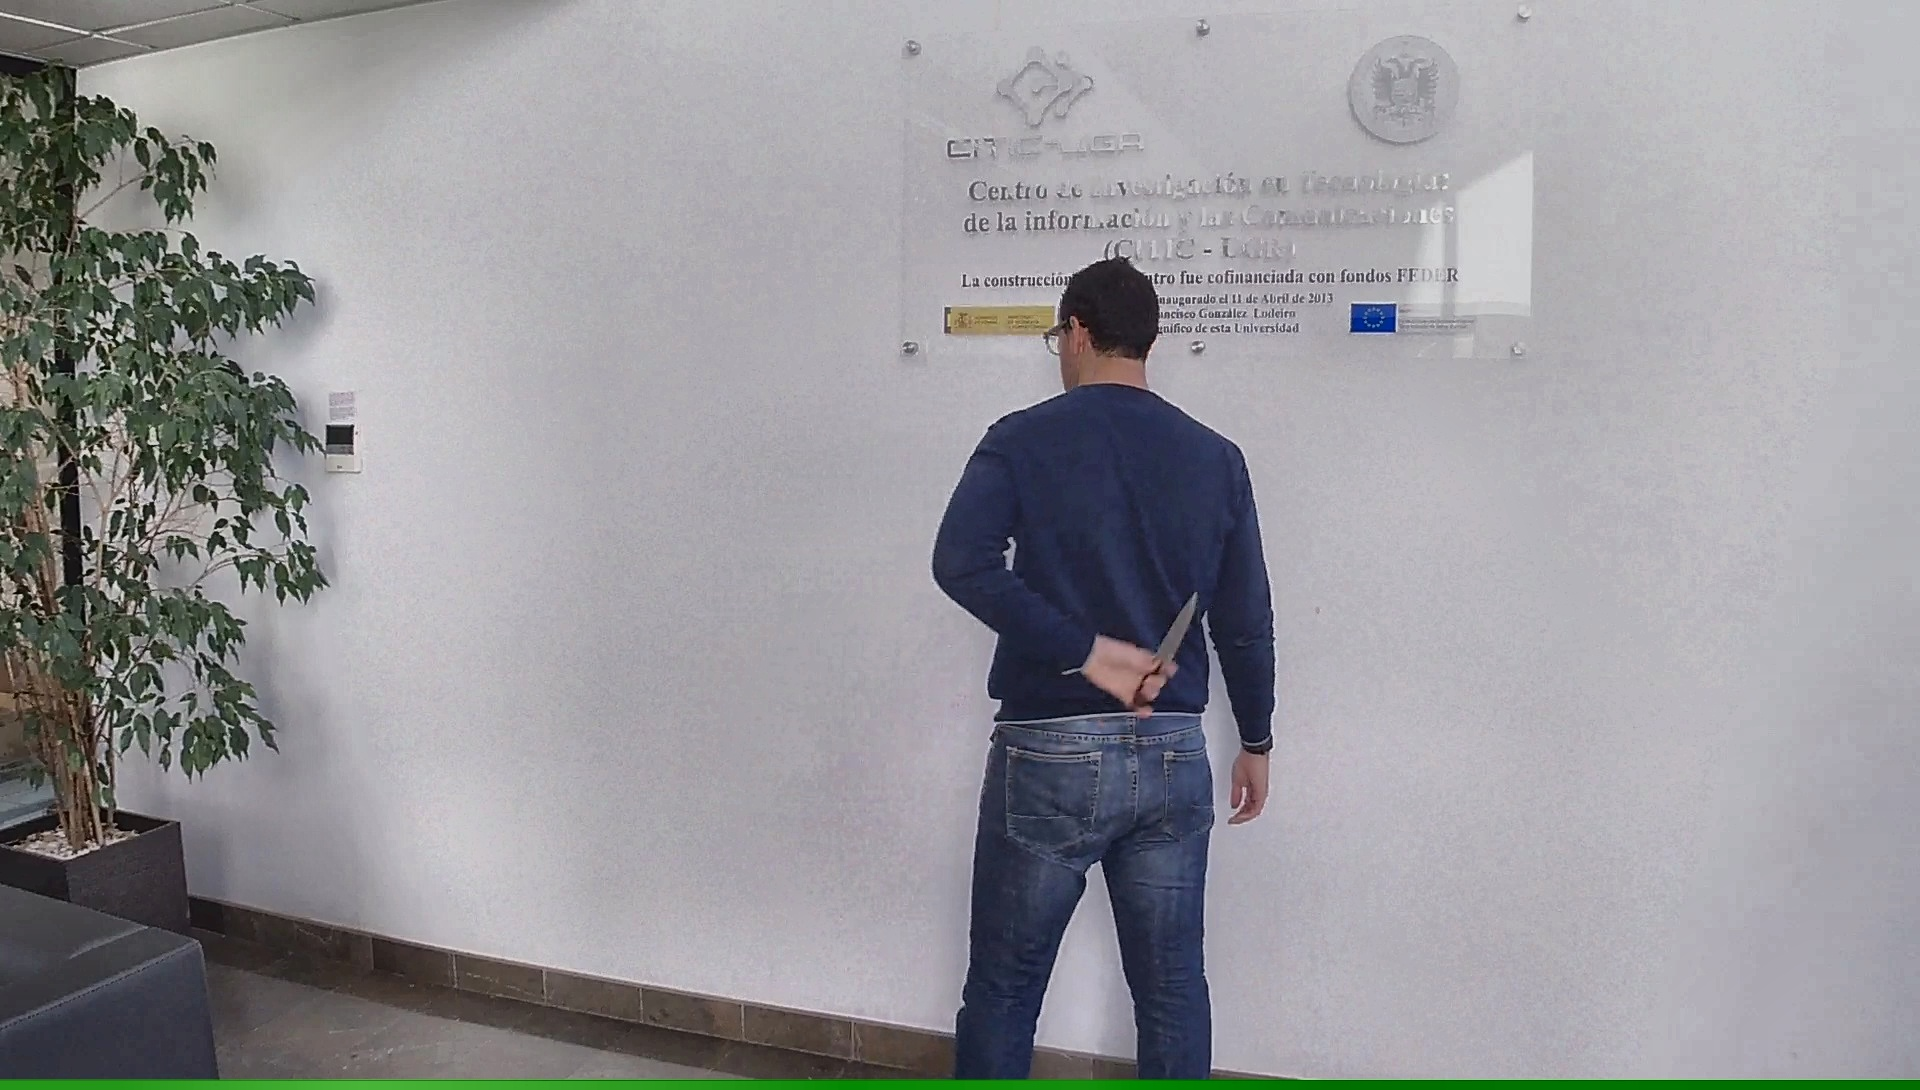knife: (1124, 580, 1208, 720)
